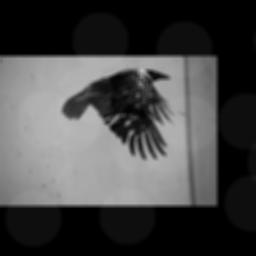Crow: (61, 69, 187, 160)
